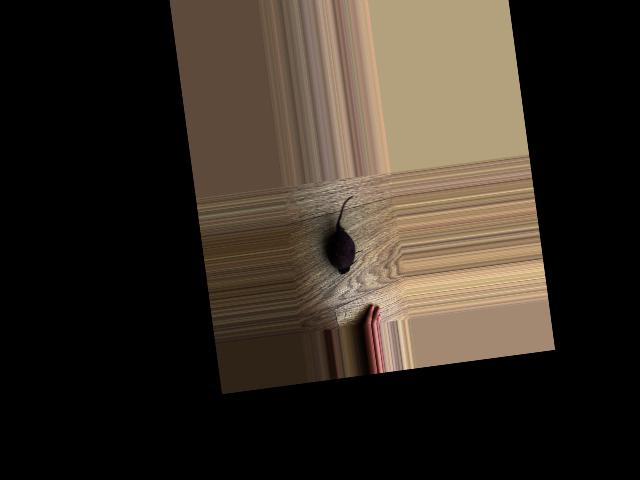beet: (320, 195, 365, 275)
